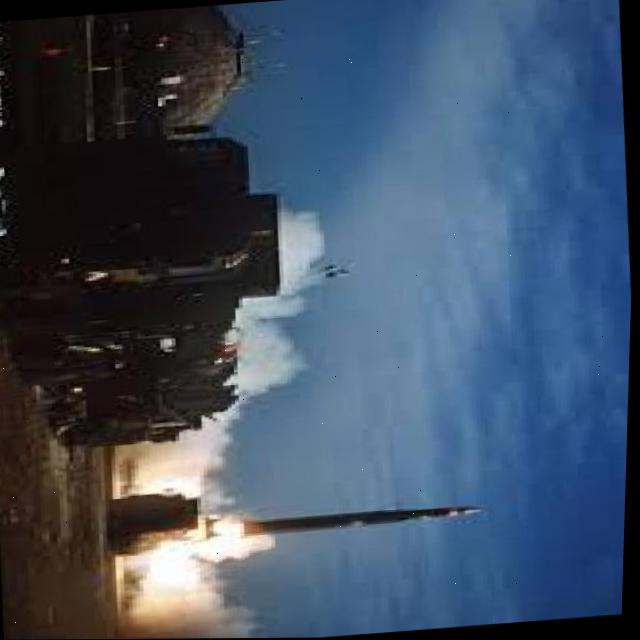missile: (226, 497, 488, 544)
